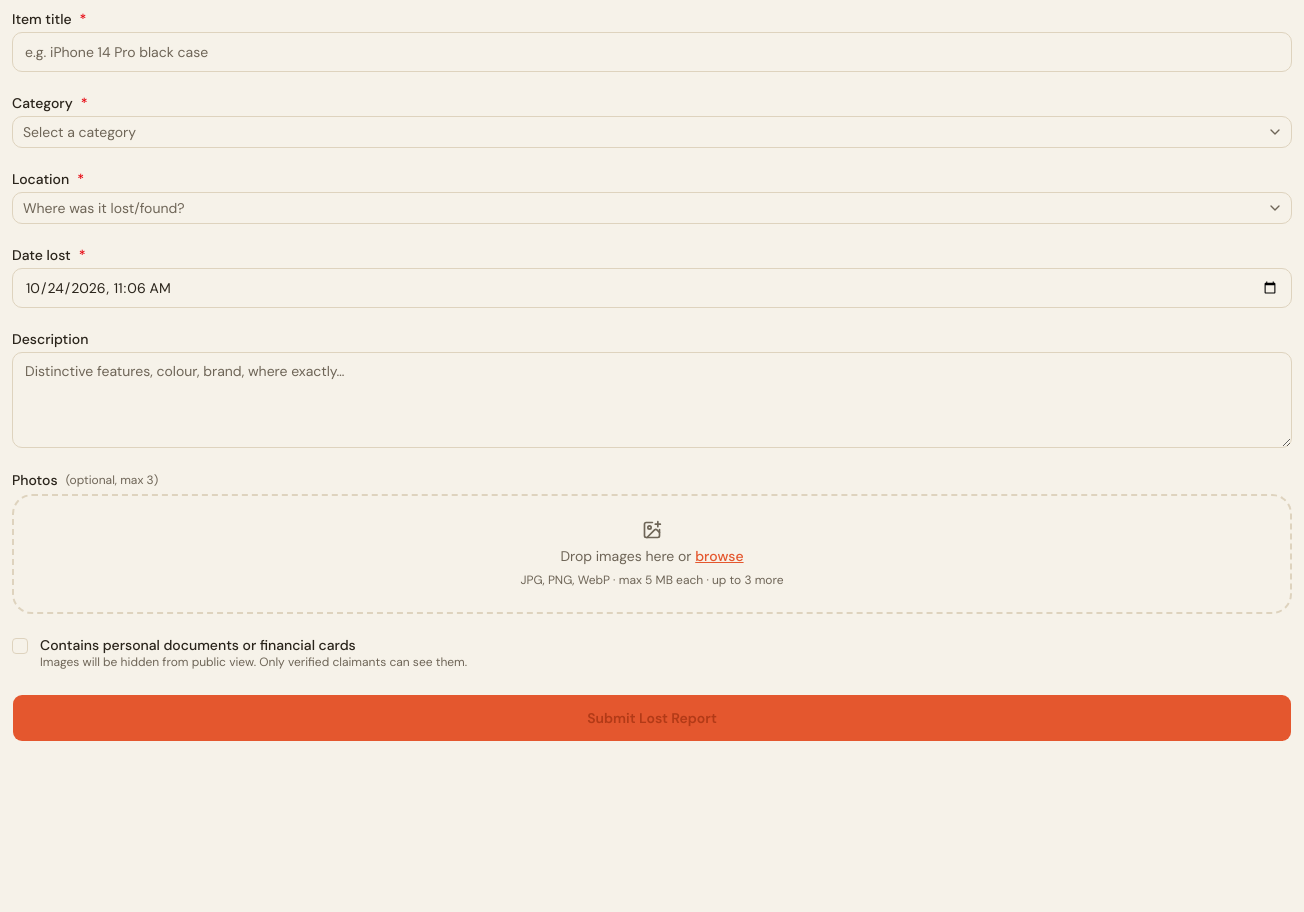
Test case: ReportForm validation errors › shows title error when form is submitted empty
Click the button "Submit Lost Report". click: x=652, y=718
box: [12,694,1292,742]
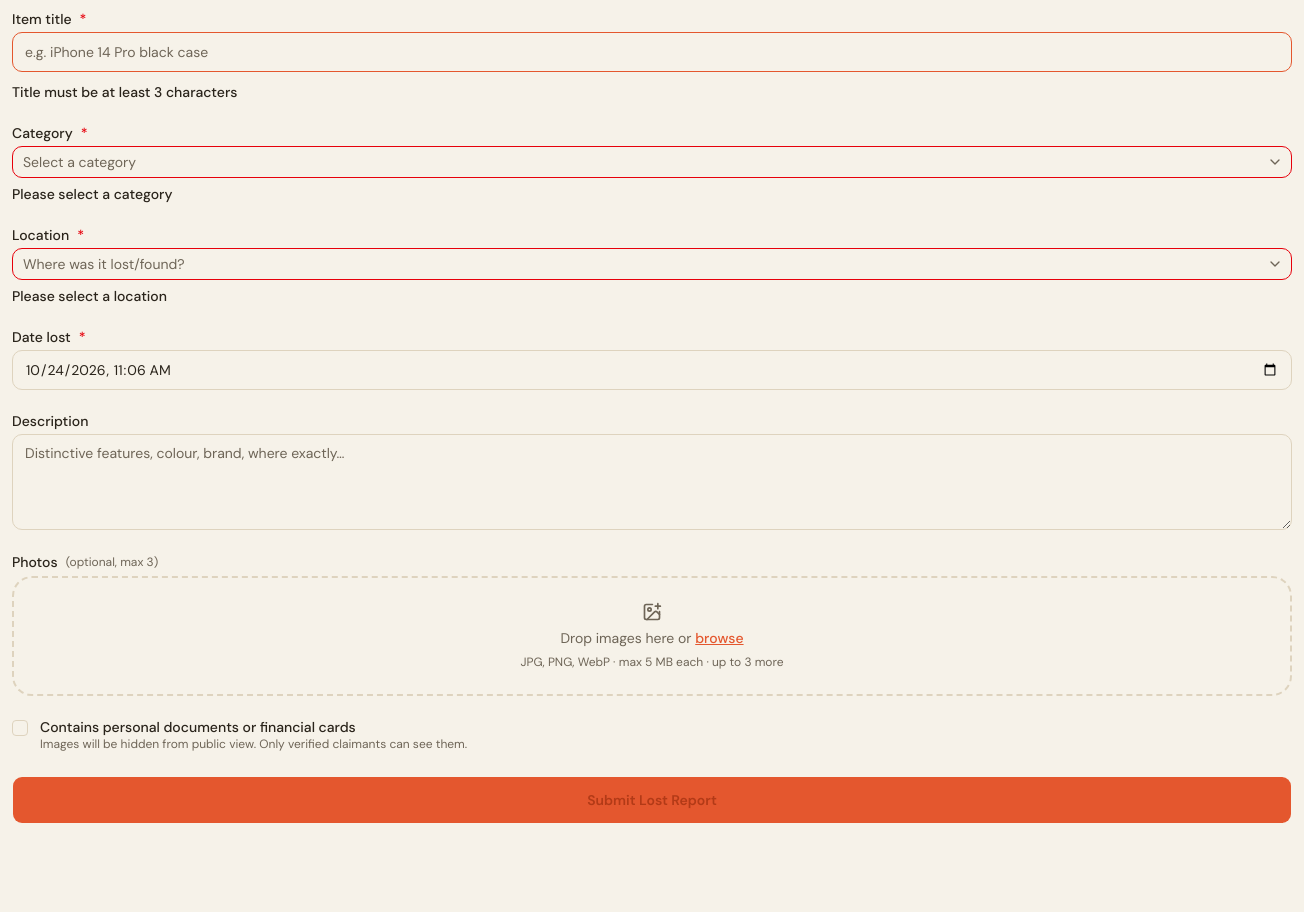
expect the text "Title must be at least 3 characters" is shown: met, box [12,83,237,101]
